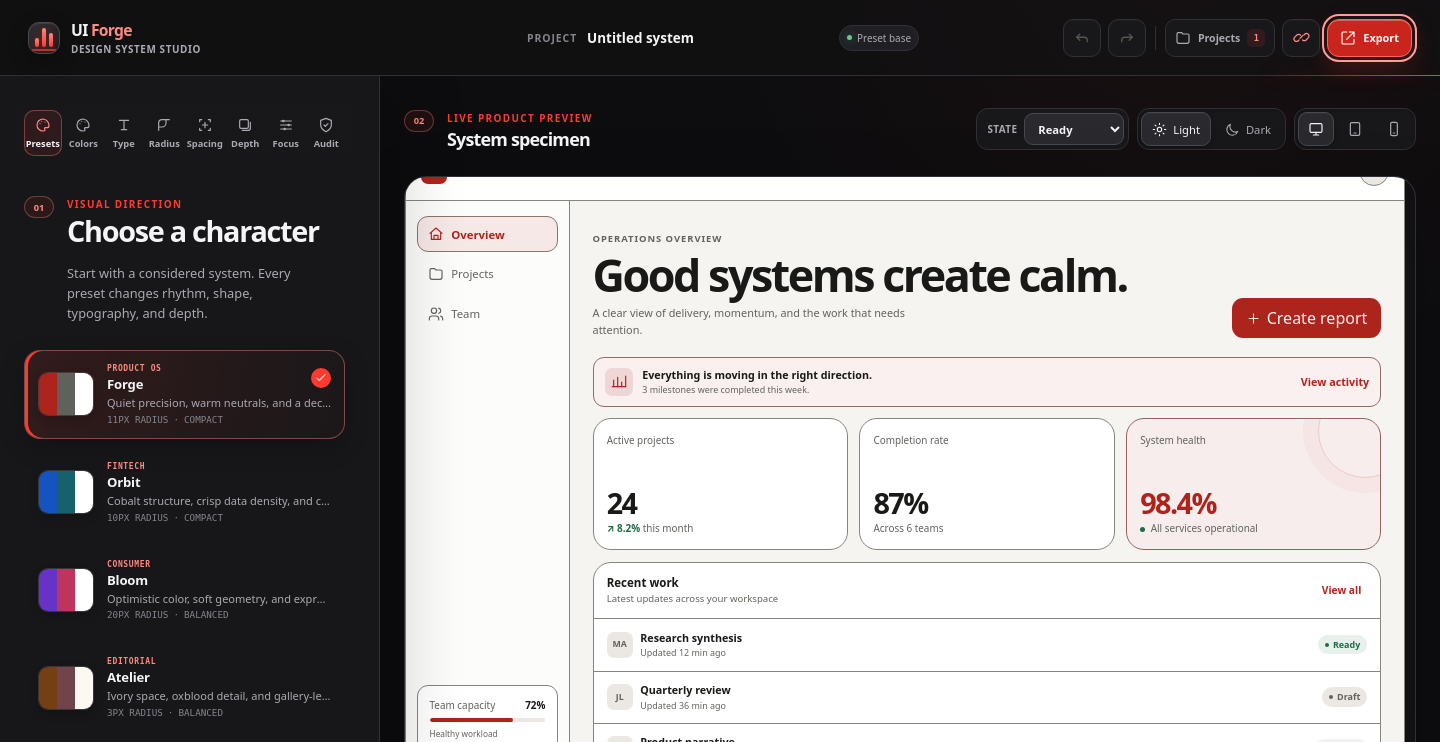
UI Forge workspace › restores focus after closing the export dialog
The image size is (1440, 742).
Click the button with aria-label "Export current project".
click(1370, 38)  # box [1327,18,1412,56]
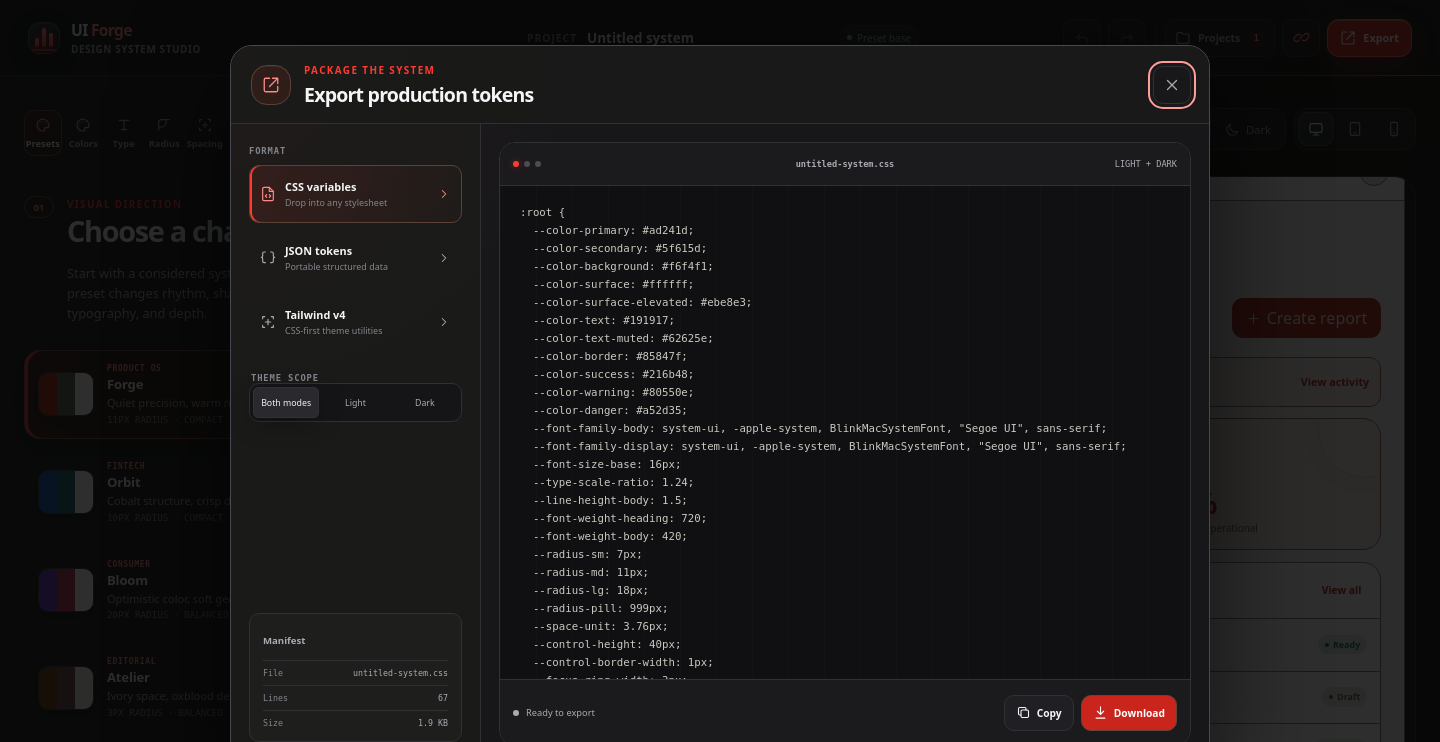
Press Escape
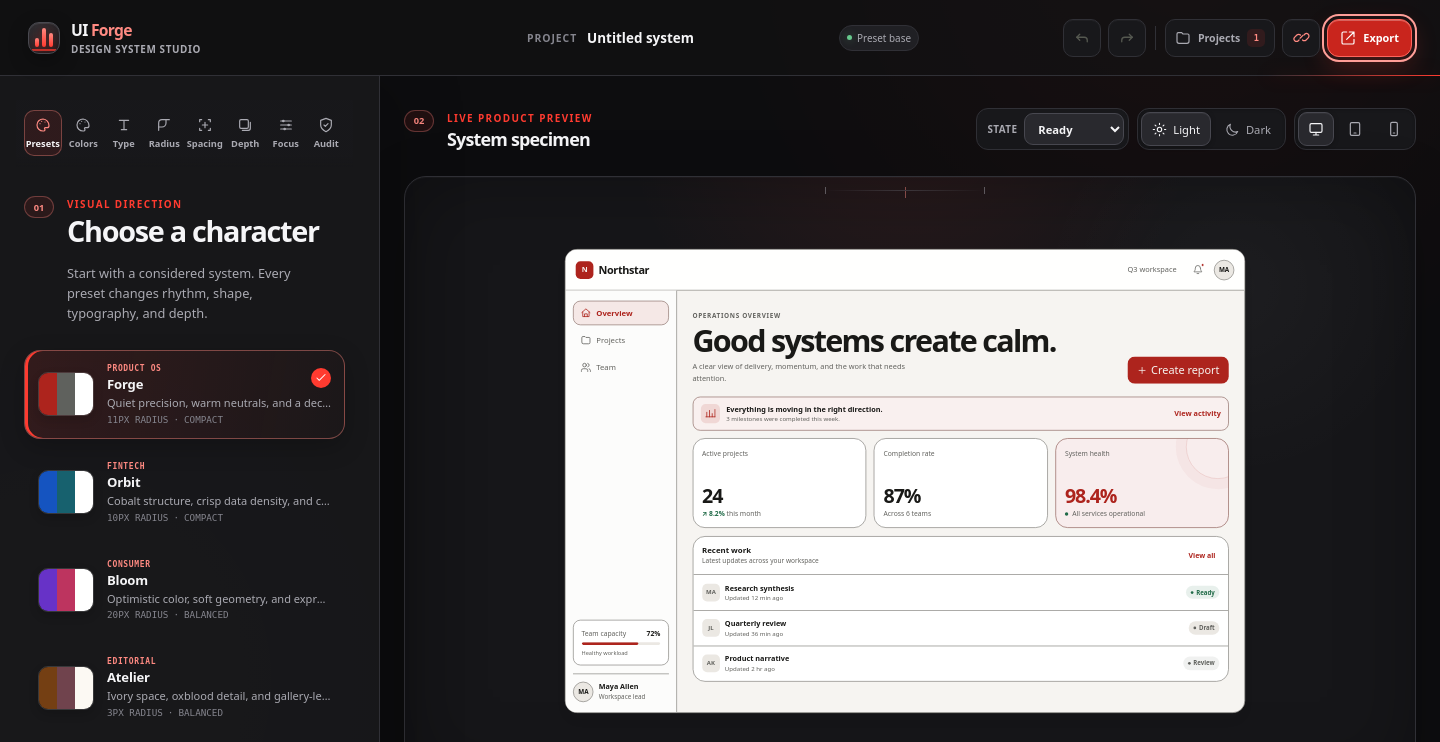
Now the heading "Export production tokens" is gone
